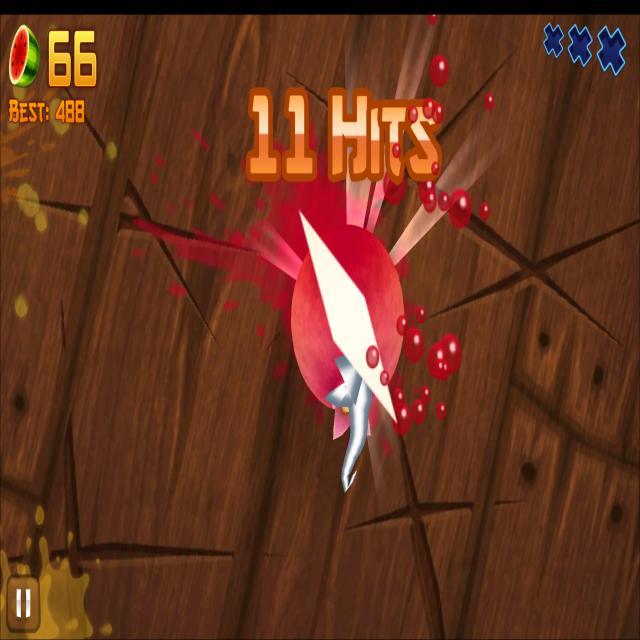fruit: (288, 214, 408, 414), (448, 188, 472, 230)
